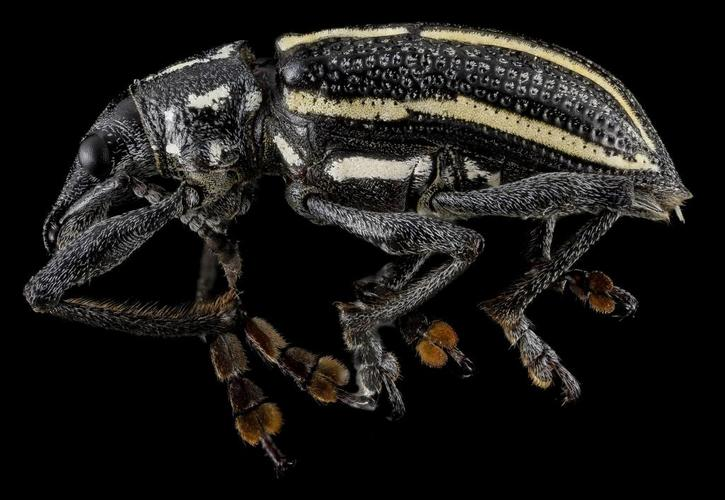Curculionidae: (21, 21, 693, 476)
